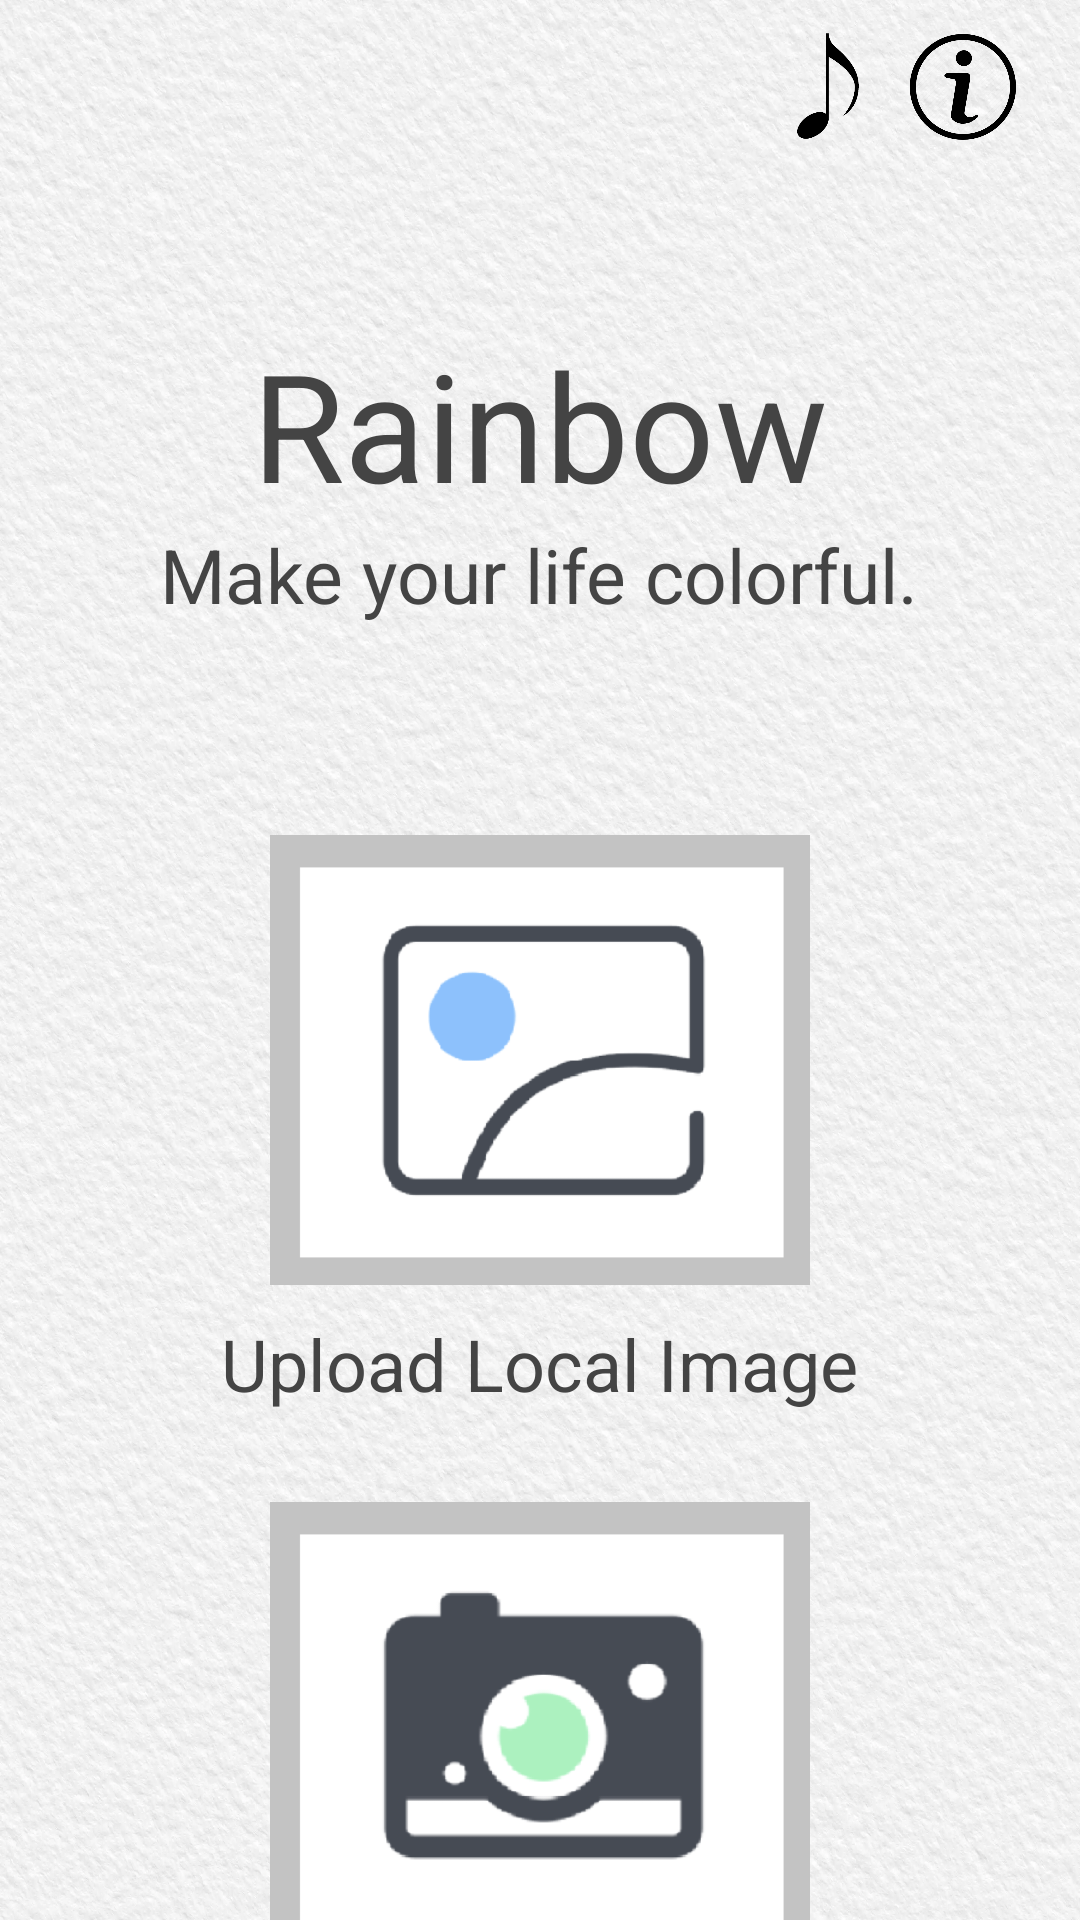

Icon bounding boxes for this 1080*1920 phone screenshot, format (x1, y1, x2, y2):
information: (910, 34, 1016, 140)
music: (797, 33, 859, 139)
